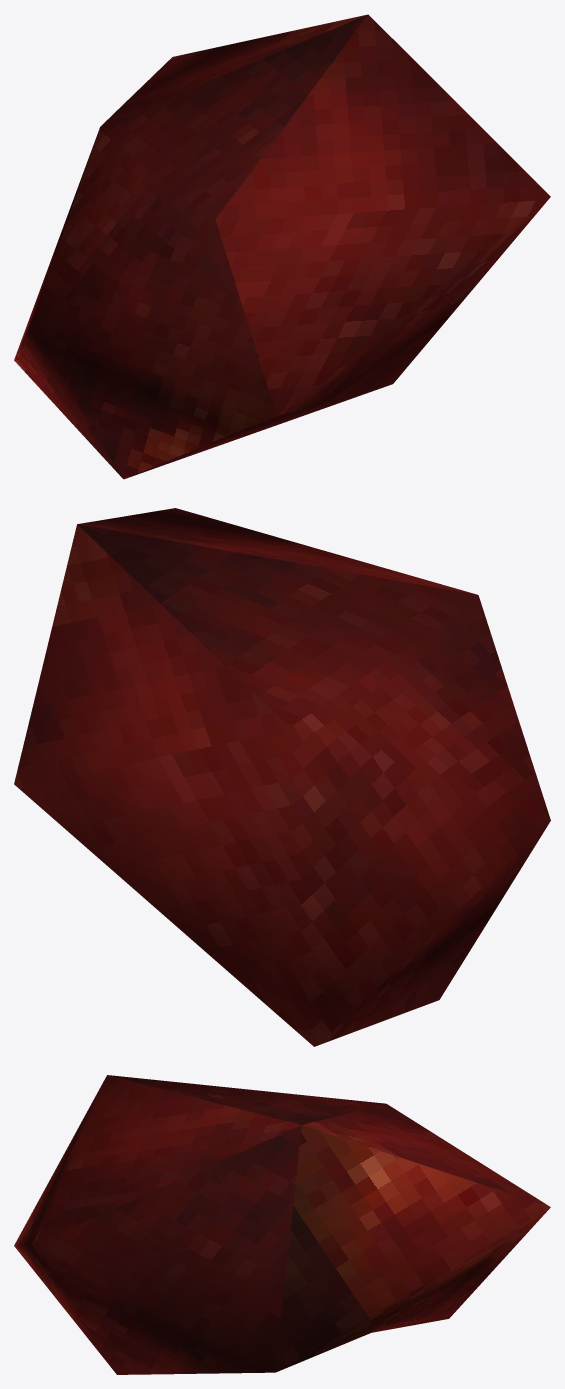
The model's file is gib.glb.
The picture shows the model from 3 angles, top to bottom: view 1: azimuth 30°, elevation 25°; view 2: azimuth 150°, elevation 25°; view 3: azimuth 270°, elevation 25°; orthographic projection. The views are drawn at different scales.
Visible parts, largest first — view 1: Guts1; view 2: Guts1; view 3: Guts1.
Boxes of the visible parts, x1,y1,x2,y2 form: Guts1: (14,14,550,479); Guts1: (14,508,550,1046); Guts1: (14,1075,550,1374).
Size of the model in its own units: 2.02 by 1.68 by 2.21.
Materials: 1 (1 with a texture image).
